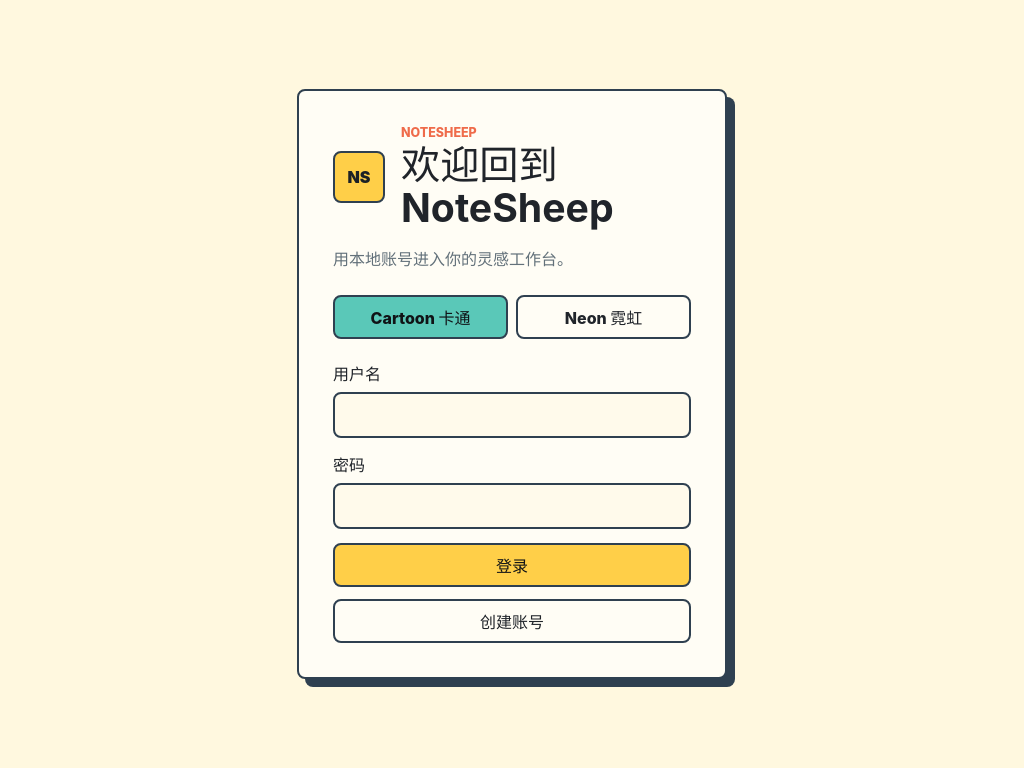
Test case: Workspace shell › shows a notebook load error when the notebook list cannot be read
In the field labelled "用户名": point(512, 415) [333, 392, 691, 438], type "note-taker"
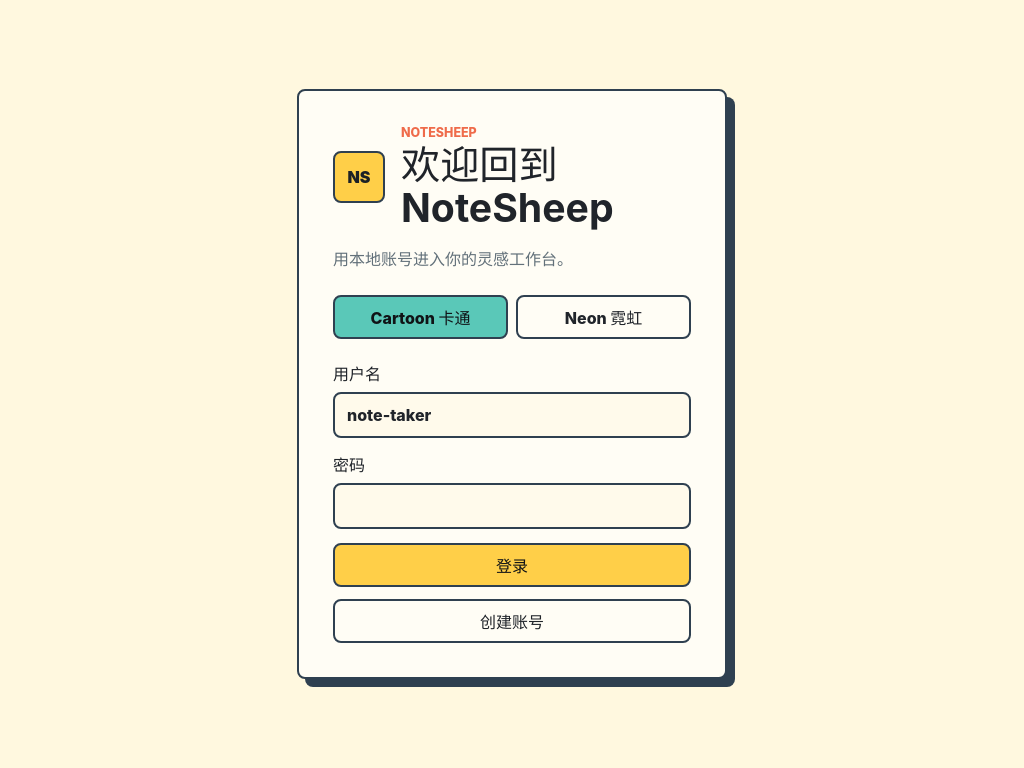
In the password field labelled "密码": point(512, 506) [333, 483, 691, 529], type "secret1"
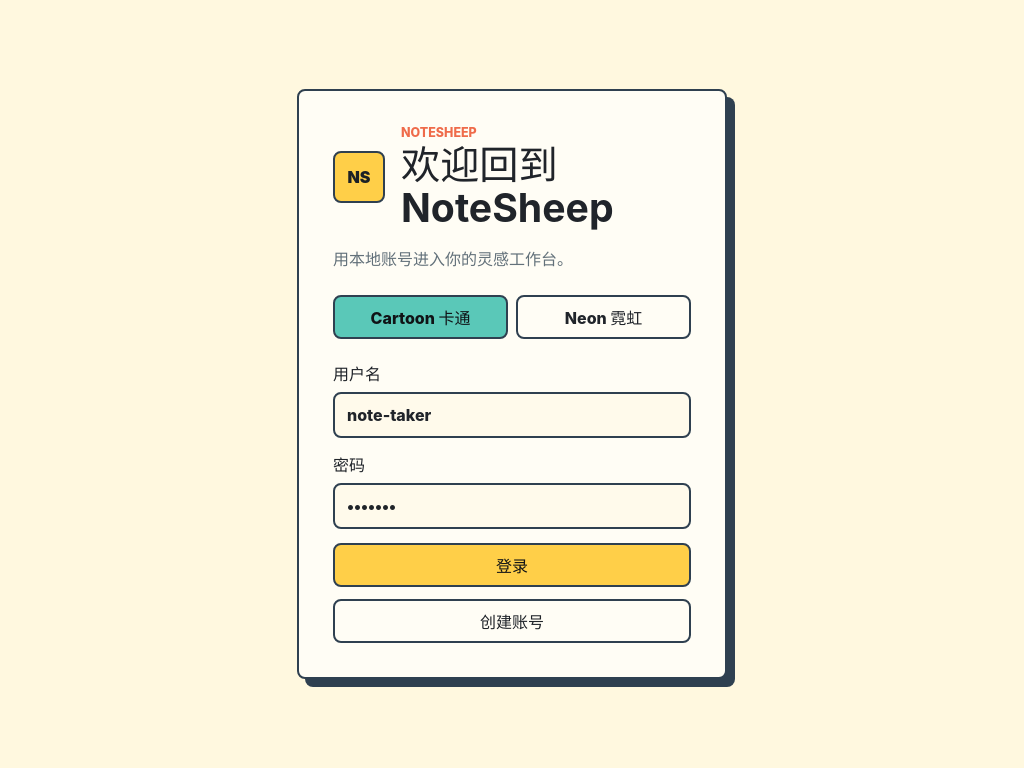
Click the button "登录": point(512, 565) [333, 543, 691, 587]
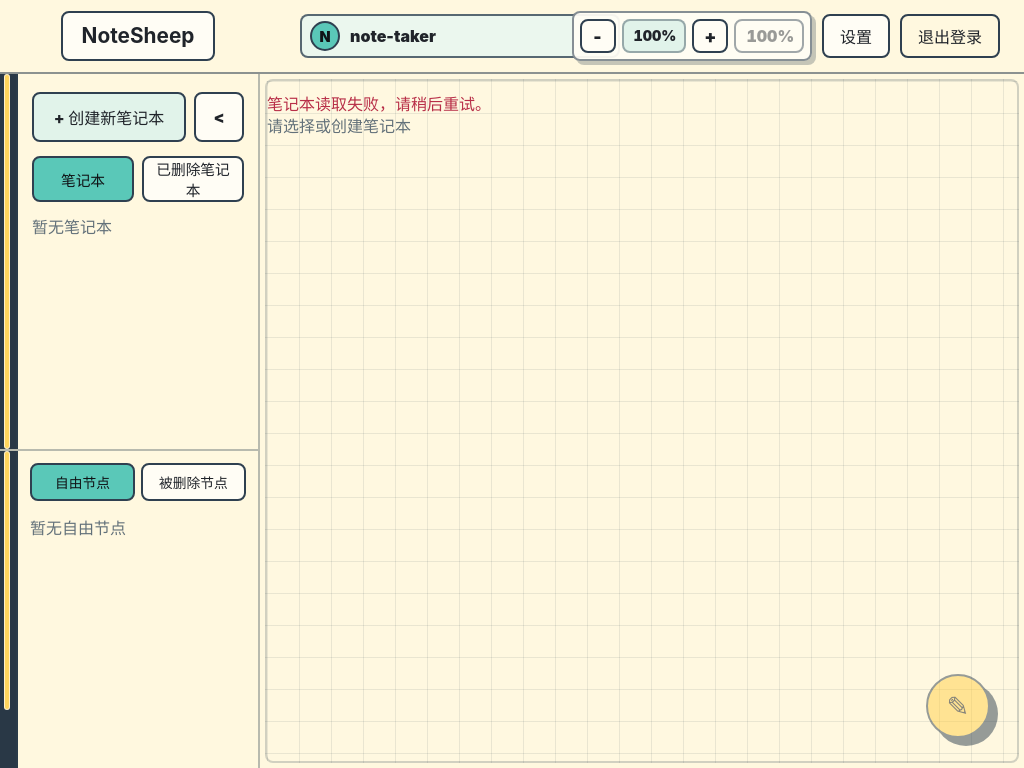
Expected: the text "笔记本读取失败，请稍后重试。" is shown, [267, 94, 491, 114]
Expected: the text "暂无笔记本" is shown, [32, 217, 112, 237]
